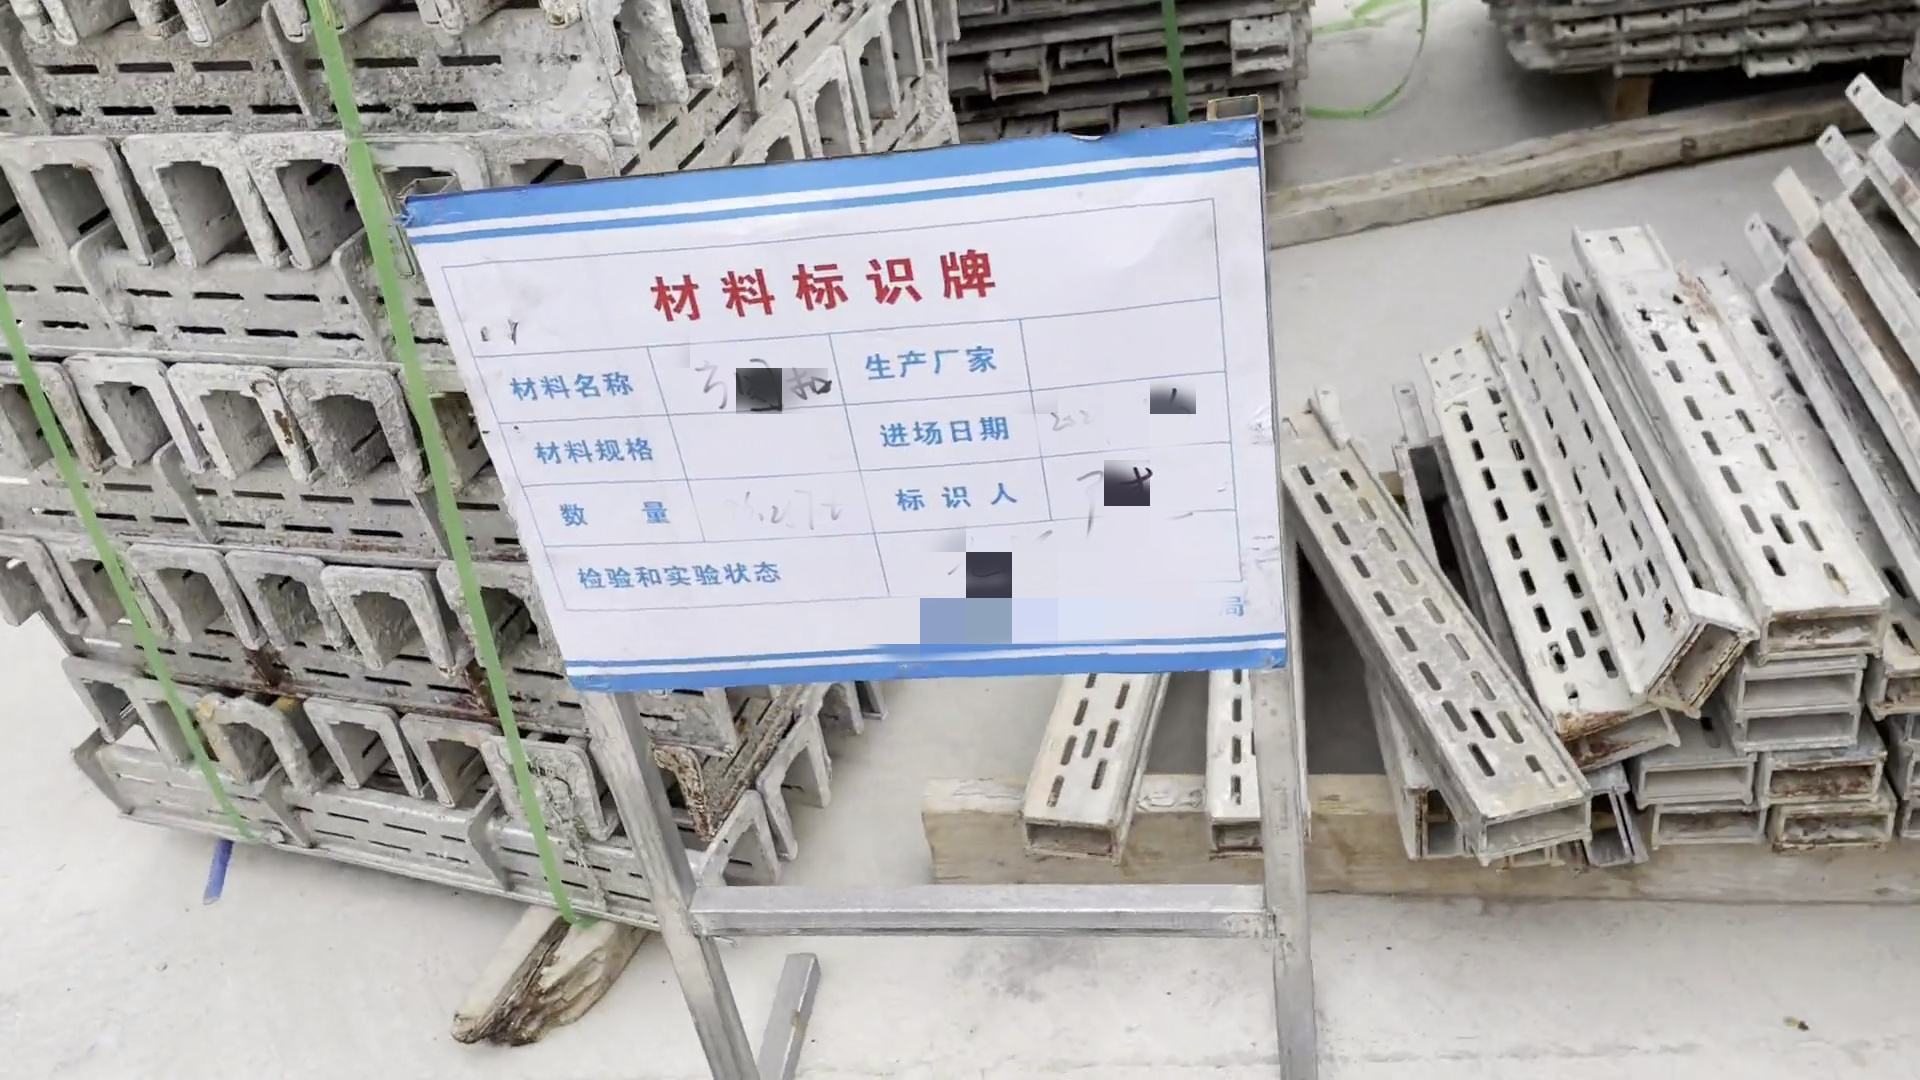slogan: (324, 84, 1321, 745)
